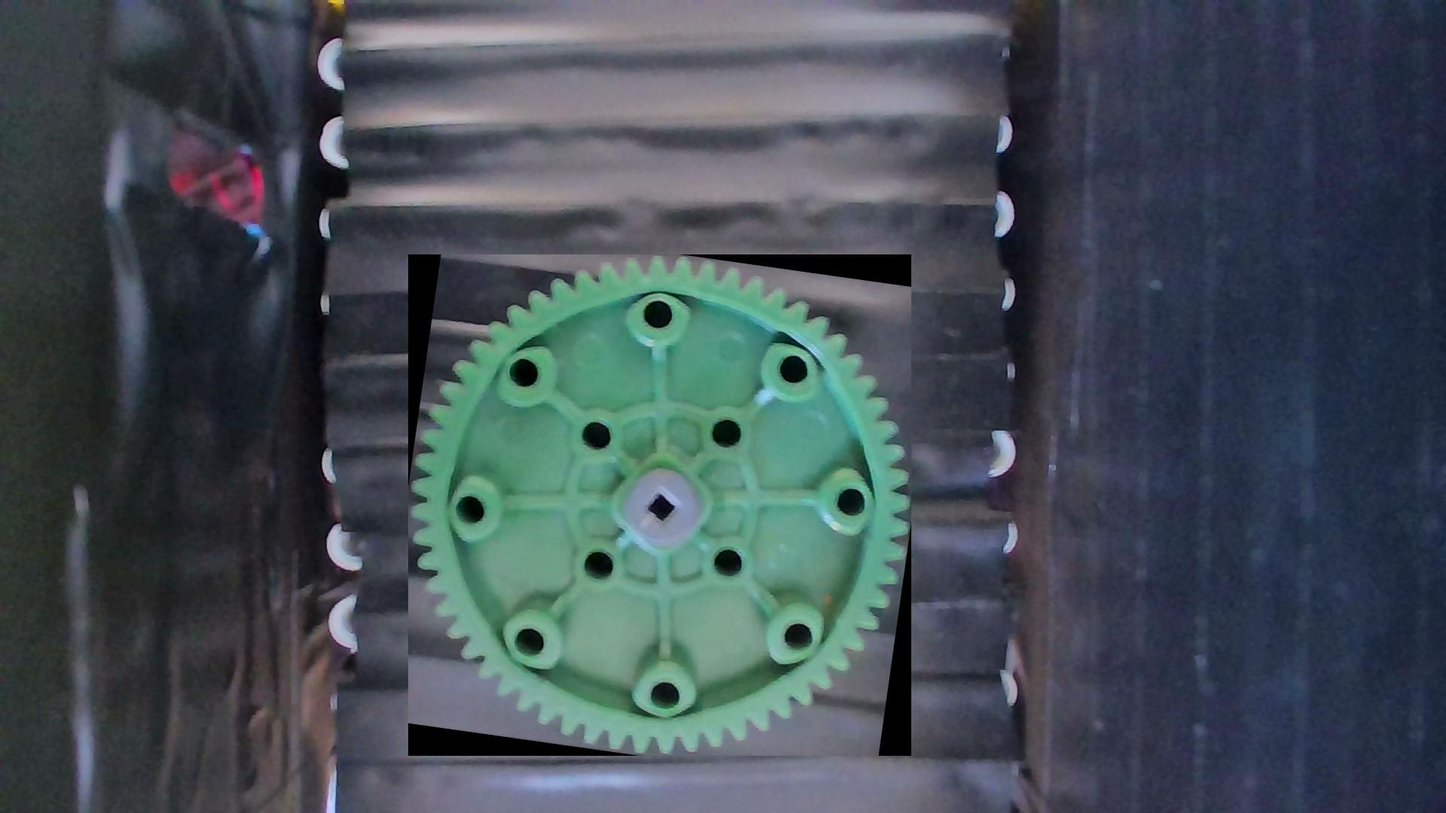gear: (409, 255, 912, 757)
